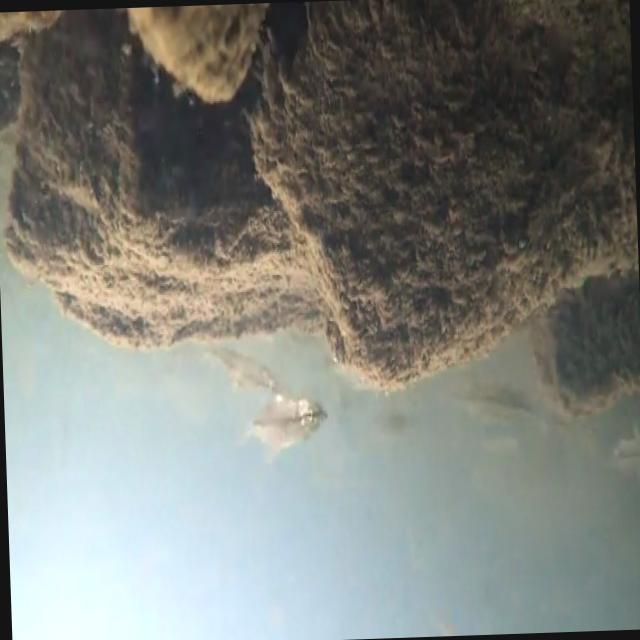Cakil Baligi: (239, 392, 328, 462)
